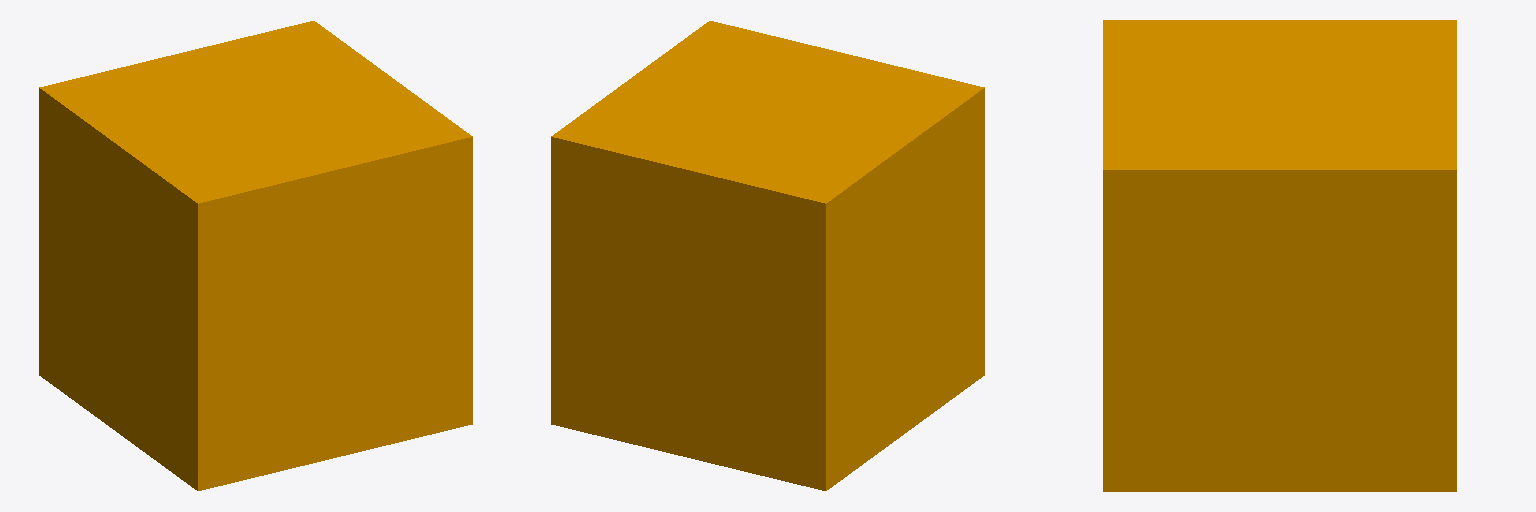
robot.urdf — cube:
<?xml version="1.0" ?>
<robot name="cube">
  <link name="baseLink">
    <contact>
      <lateral_friction value="1.0"/>
      <rolling_friction value="0.0"/>
      <contact_cfm value="0.0"/>
      <contact_erp value="1.0"/>
    </contact>
    <inertial>
      <origin rpy="0 0 0" xyz="0 0 0"/>
       <mass value="1.0"/>
       <inertia ixx="1" ixy="0" ixz="0" iyy="1" iyz="0" izz="1"/>
    </inertial>
    <visual>
      <origin rpy="0 -1.5708 0" xyz="0 0 0"/>
      <geometry>
				<mesh filename="tagged_cube_4.obj" scale="0.5 0.5 0.5"/>
      </geometry>
       <material name="test">
       <texture filename="textures/tag8.png"/>
      </material>
    </visual>
    <collision>
      <origin rpy="0 0 0" xyz="0 0 0"/>
      <geometry>
	 	<box size="1 1 1"/>
      </geometry>
    </collision>
  </link>
</robot>

--- Render facts (derived) ---
Views: 3 orthographic renders of the robot side by side, from view 1: azimuth 30°, elevation 25°; view 2: azimuth 150°, elevation 25°; view 3: azimuth 270°, elevation 25°.
Robot: cube — 1 links, 0 joints (none); root link baseLink; default pose: every joint at zero.
Links seen in each view (by area): view 1: baseLink; view 2: baseLink; view 3: baseLink.
Boxes of the visible links, x1,y1,x2,y2 form: baseLink: [39, 21, 472, 490]; baseLink: [551, 21, 984, 490]; baseLink: [1103, 20, 1456, 491].
Size in the robot's own frame: 1 by 1 by 1 metres.
Meshes: 1 distinct files referenced, 1 mesh visuals loaded (1 OBJ).